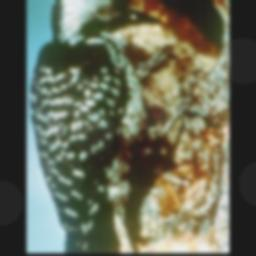Woodpecker: (29, 0, 217, 252)
